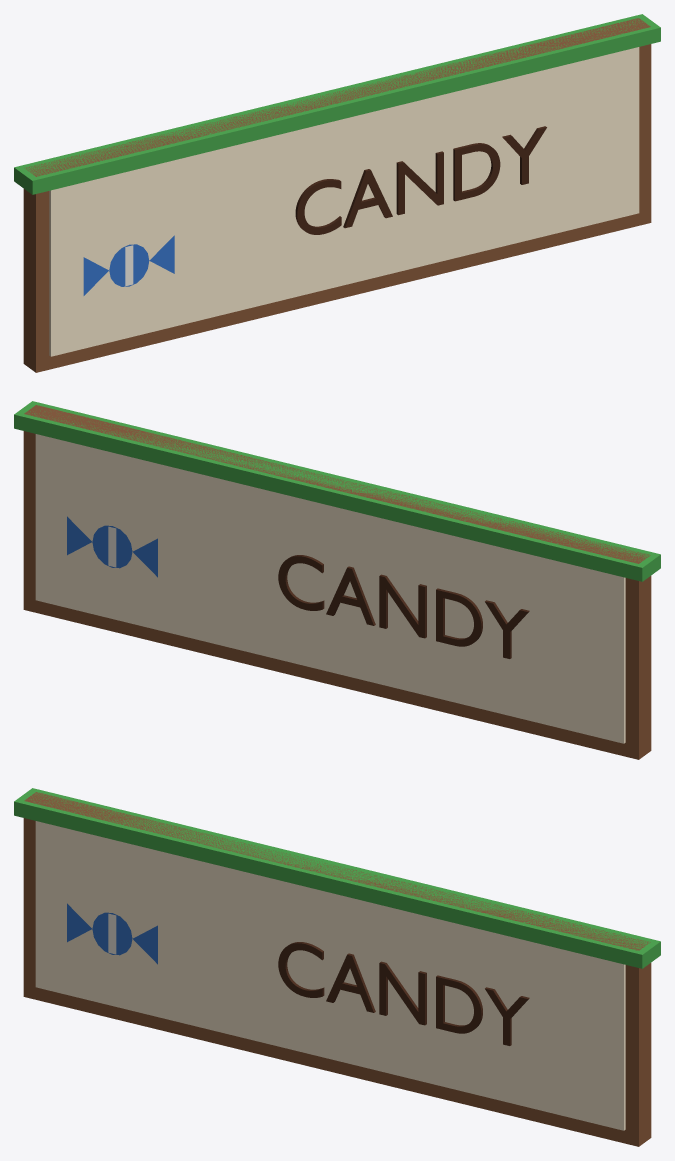
The model's file is kiosk-sign-candy.glb.
3 renders of one model, top to bottom at view 1: azimuth 30°, elevation 25°; view 2: azimuth 150°, elevation 25°; view 3: azimuth 330°, elevation 25°, orthographic.
Parts seen in each view (by area): view 1: kiosk-sign-candy; view 2: kiosk-sign-candy; view 3: kiosk-sign-candy.
Part boxes in pixels (x1=…): kiosk-sign-candy: x1=14, y1=14, x2=660, y2=372; kiosk-sign-candy: x1=14, y1=401, x2=660, y2=759; kiosk-sign-candy: x1=14, y1=788, x2=660, y2=1146.
Size of the model in its own units: 4.7 by 1.4 by 0.246.
